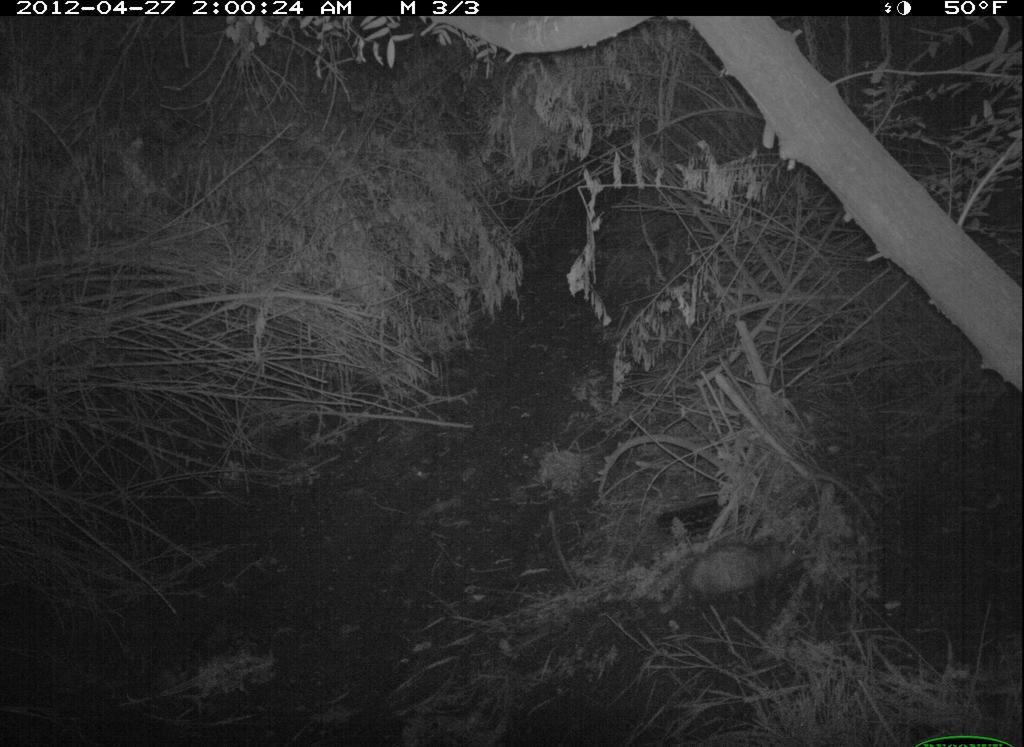opossum: (656, 534, 815, 617)
